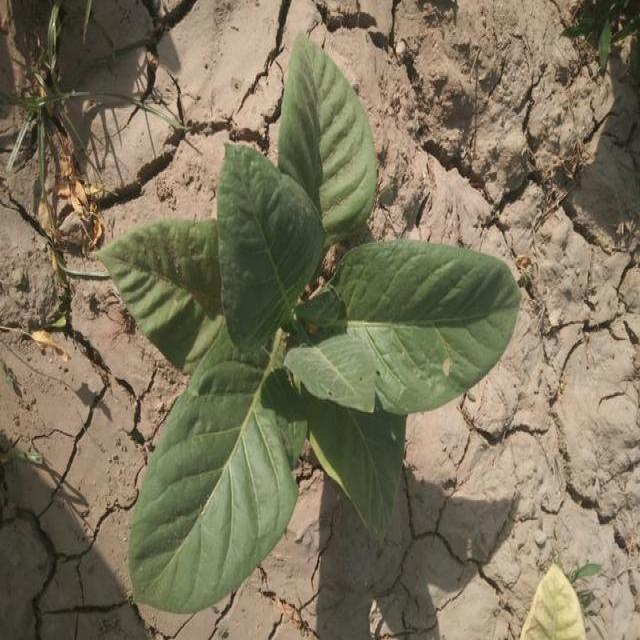crop: (102, 41, 519, 598)
